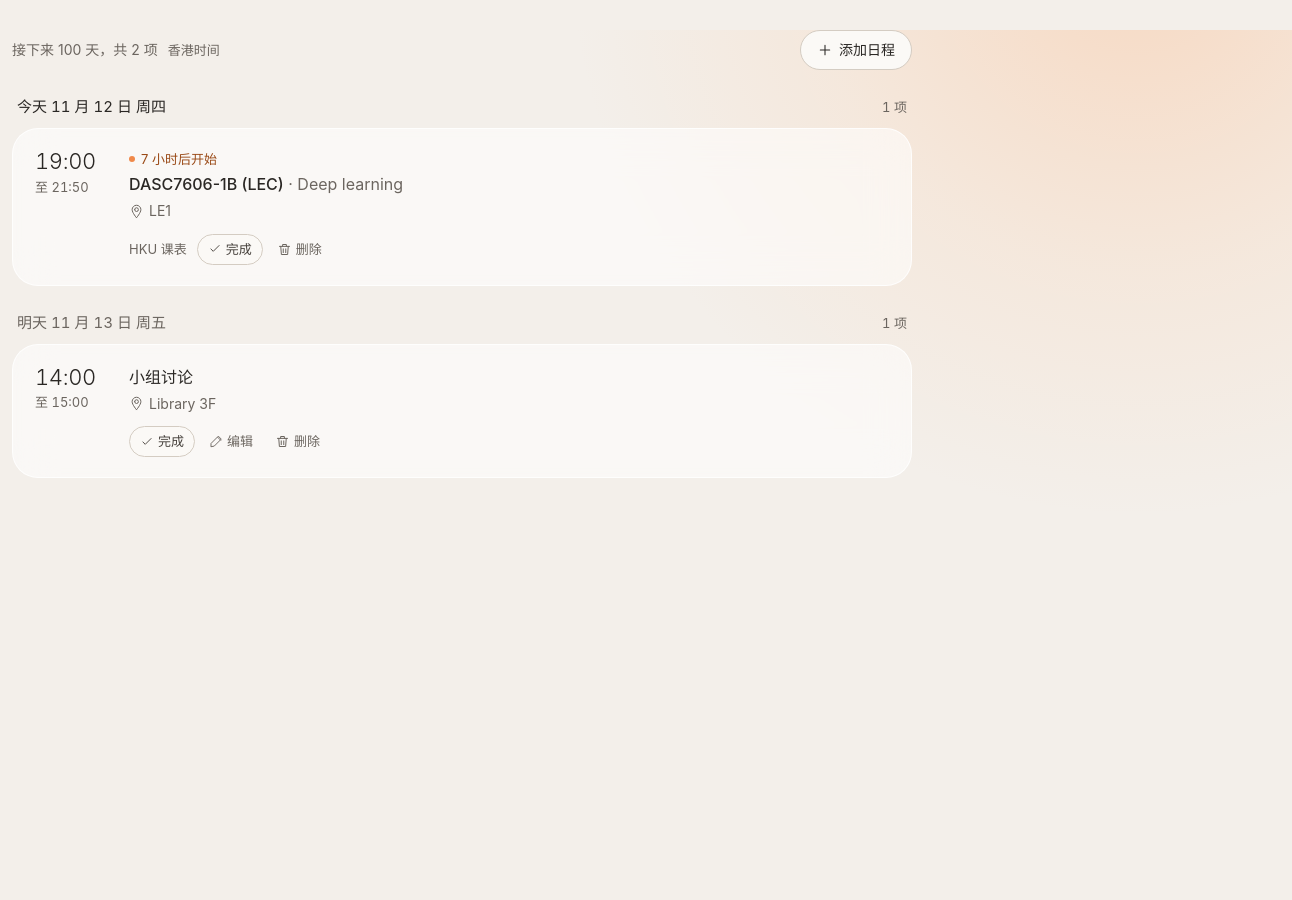
Scenario: edits my own schedule items in place, but not HKU courses
Click the button with aria-label "编辑 小组讨论" at (231, 442), box [201,427,261,456]
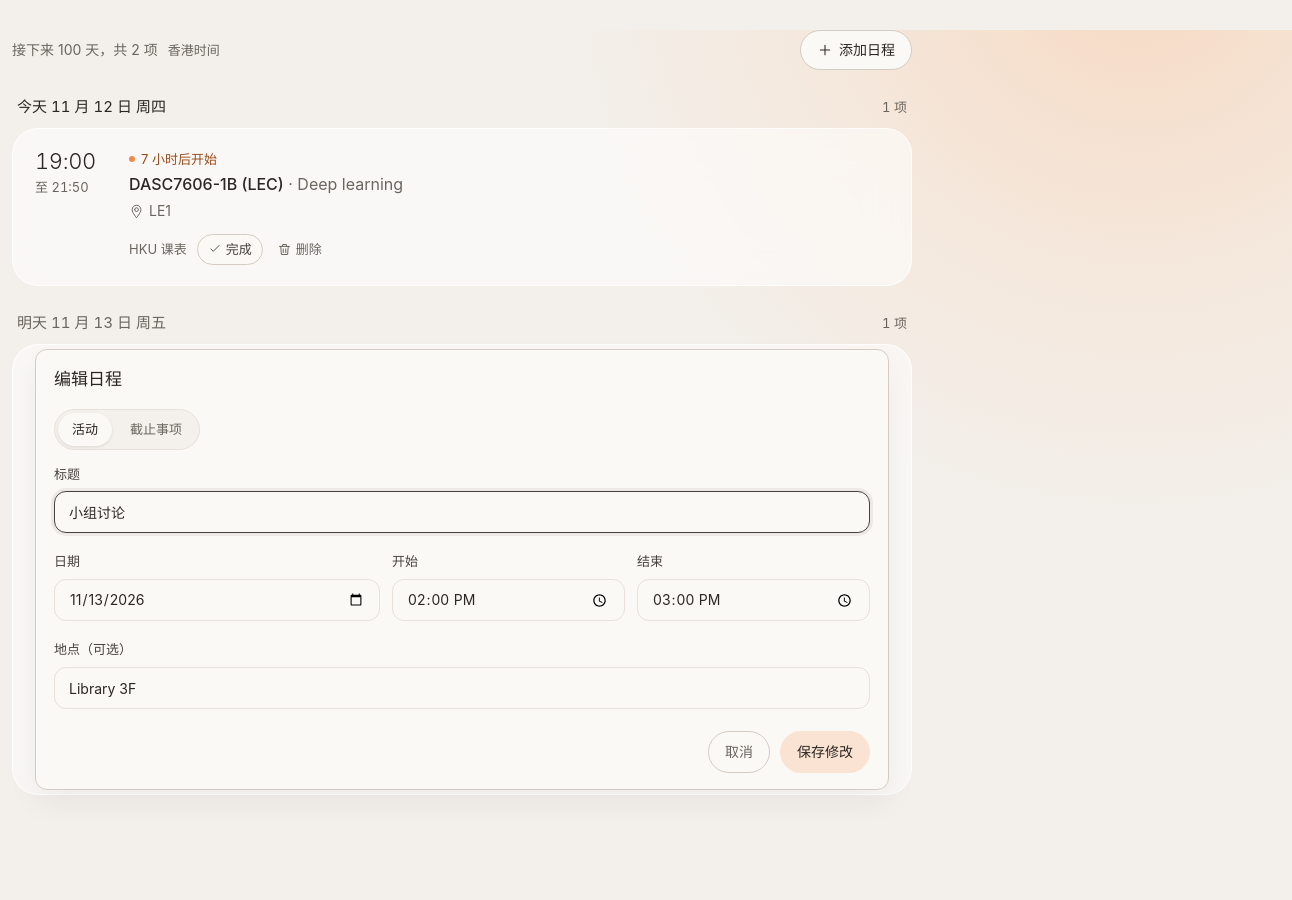
Result: the field labelled "标题" holds "小组讨论" at [54,492,870,534]
Result: the date field labelled "日期" holds "2026-11-13" at [54,579,380,621]
Result: the time field labelled "开始" holds "14:00" at [392,579,625,621]
Click the button "取消" at (739, 752), box [708,731,770,773]
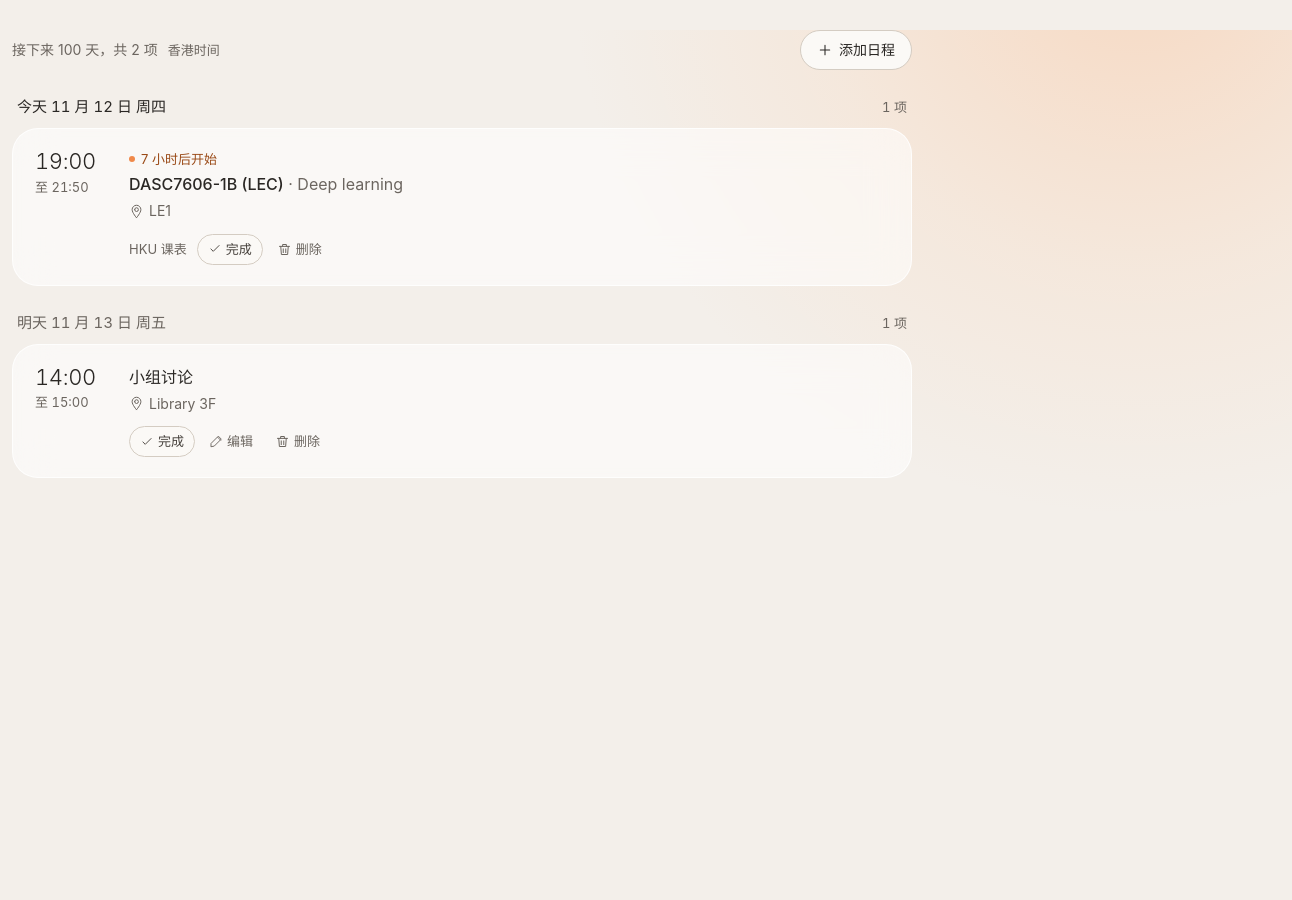
Result: the heading "编辑日程" is gone
Click the button with aria-label "编辑 小组讨论" at (231, 442), box [201,427,261,456]
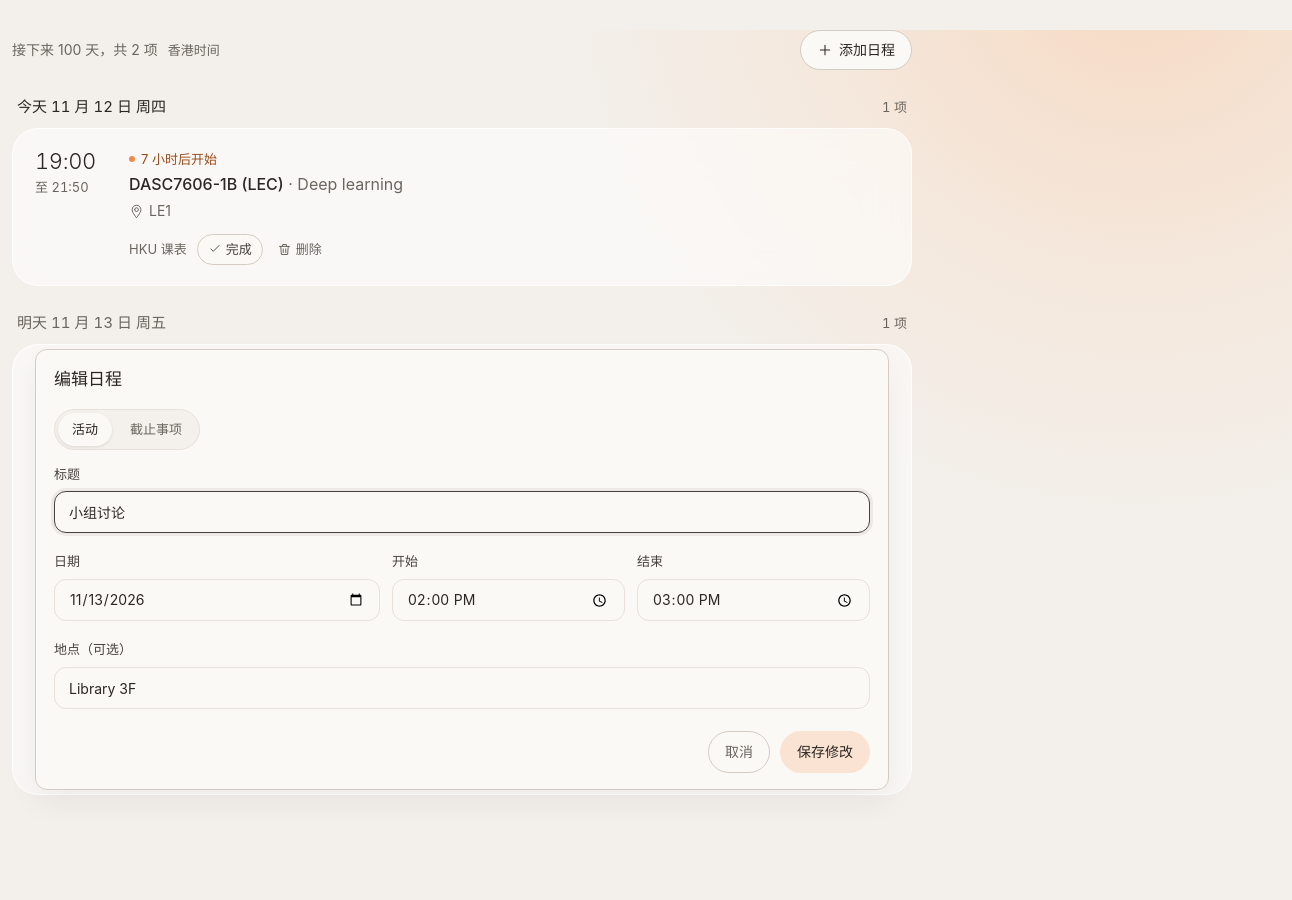
Replace the text in the field labelled "标题" with "组会" at (462, 512), box [54,492,870,534]
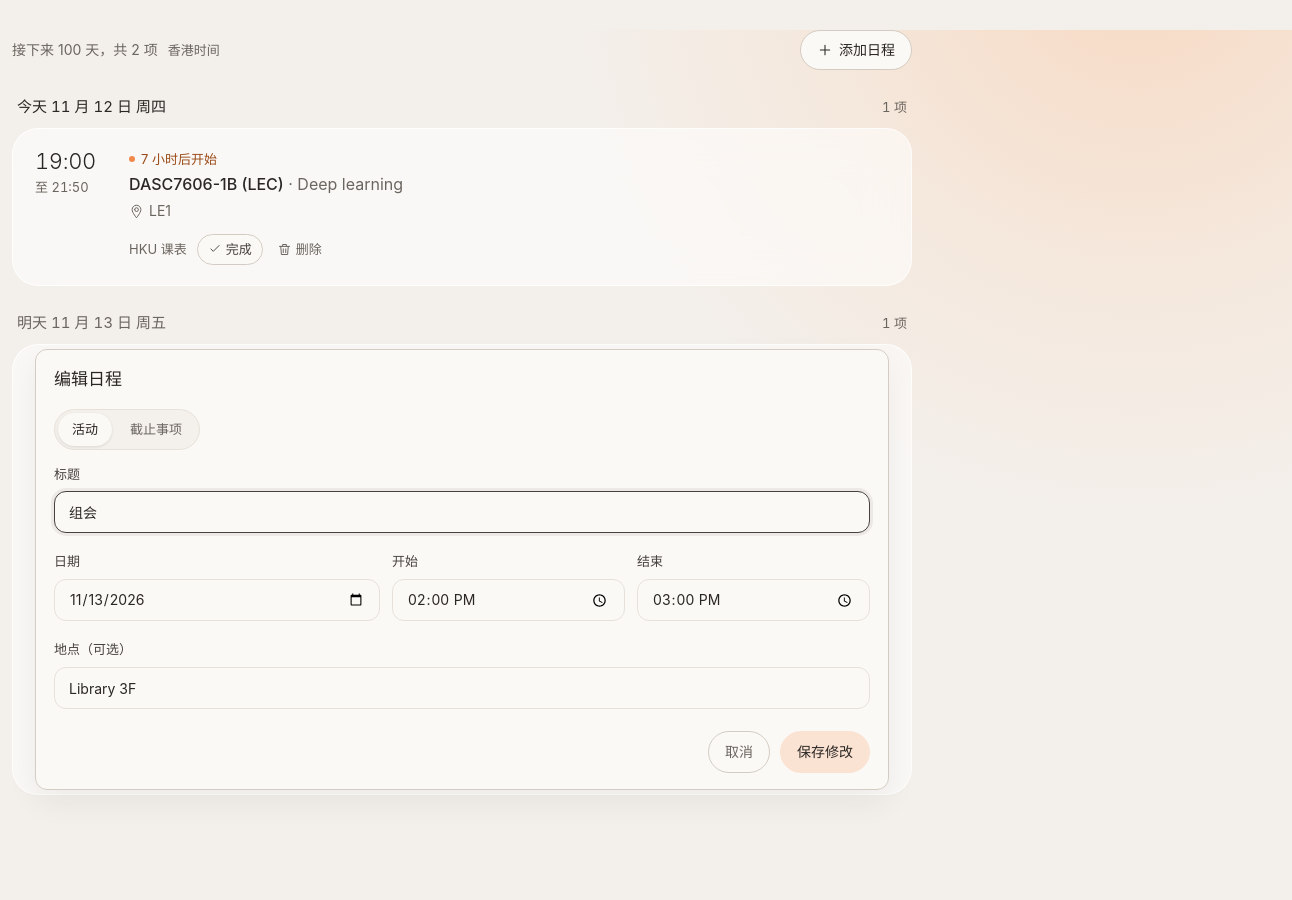
Replace the text in the time field labelled "结束" with "16:30" at (754, 600), box [637,579,870,621]
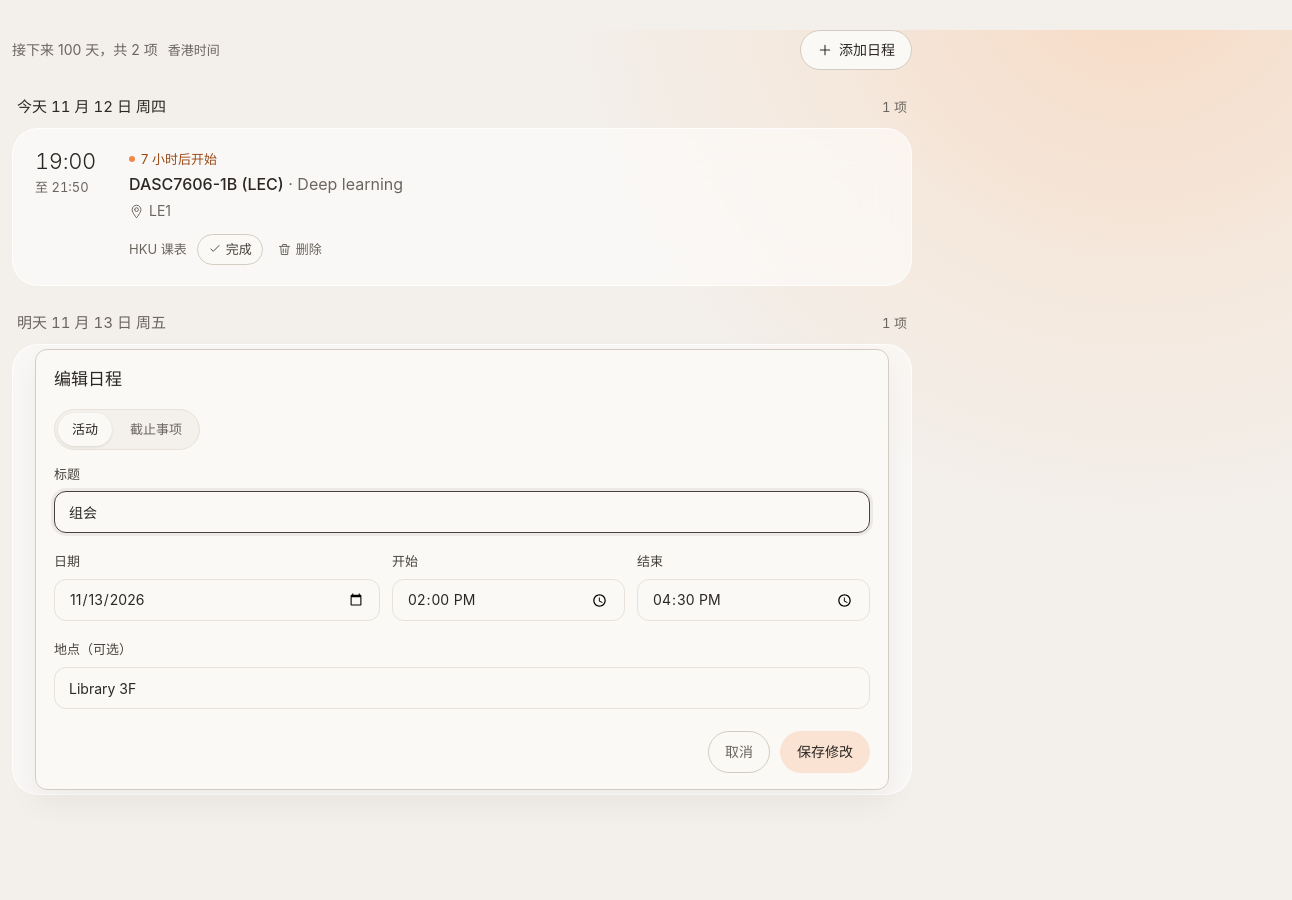
Click the button "保存修改" at (825, 752), box [780,731,870,773]
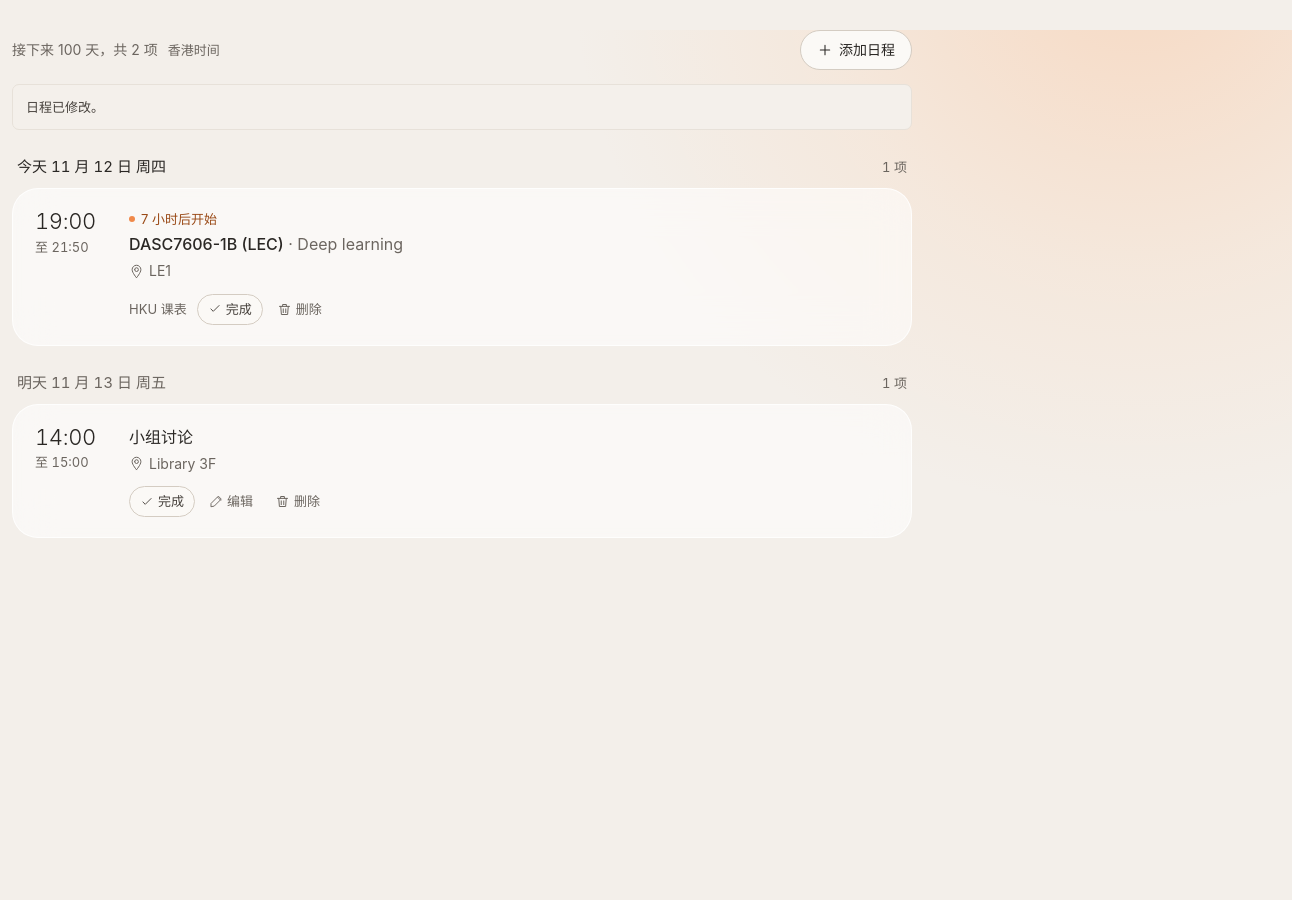
Result: the text "日程已修改。" is shown at [12,84,912,130]
Result: the heading "编辑日程" is gone
